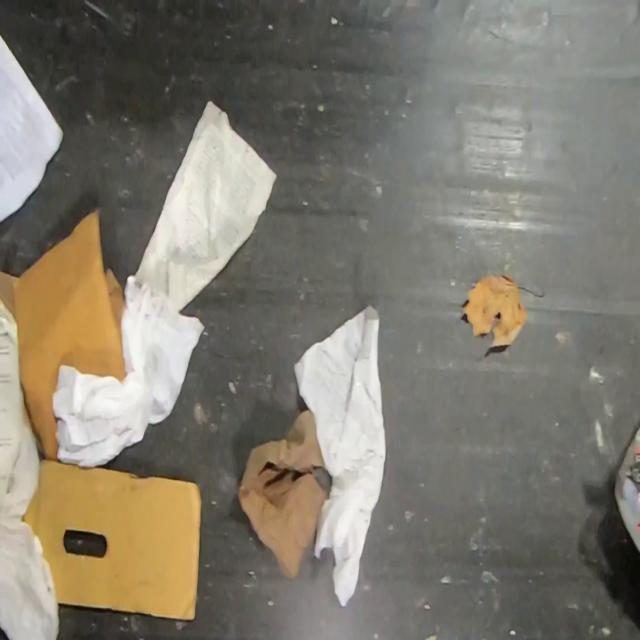cardboard: (0, 202, 130, 462), (18, 459, 202, 621)
soft_plastic: (612, 413, 640, 560)
